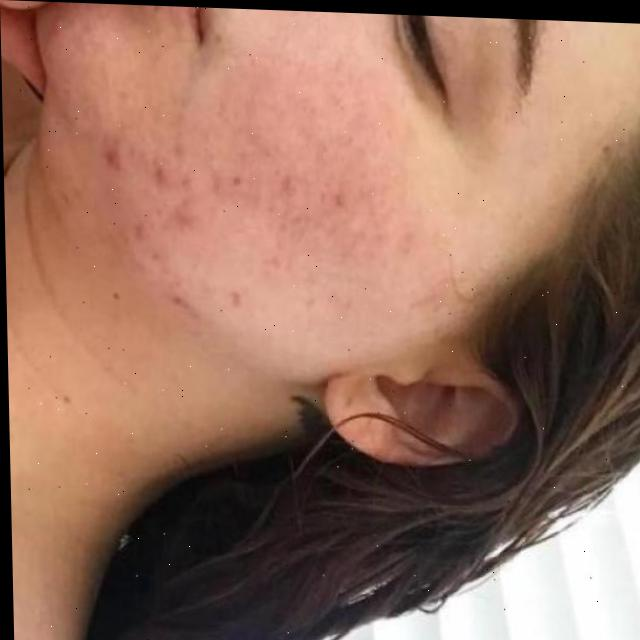Acne: (107, 54, 416, 314)
